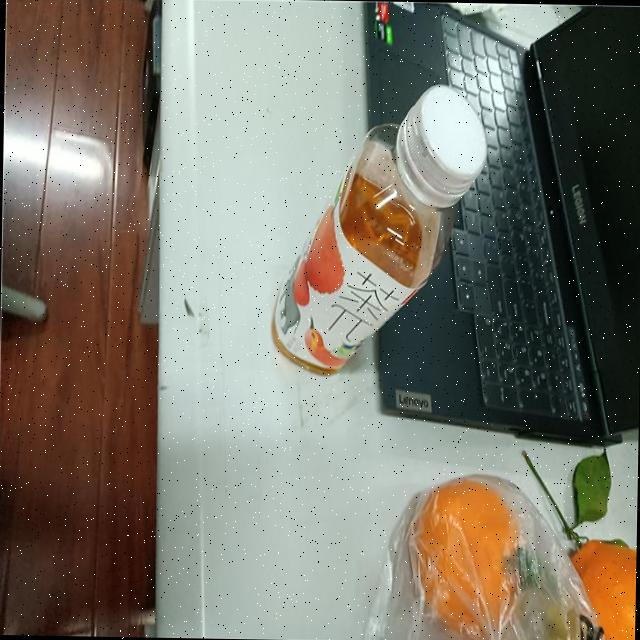orange-peel: (406, 474, 524, 638)
